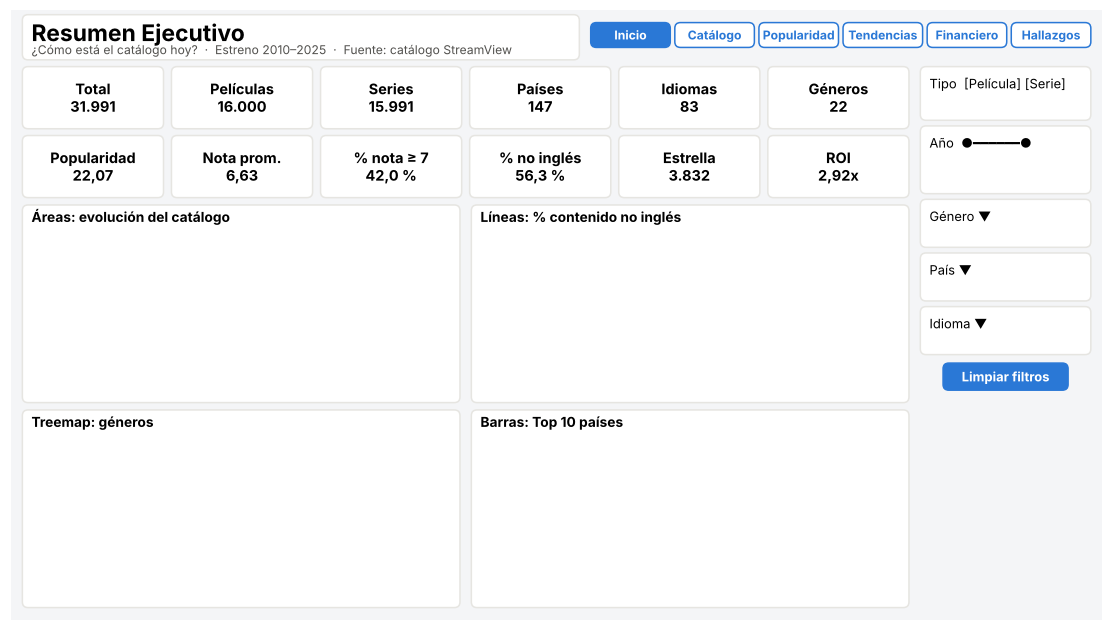

This screenshot's page, from the dashboard's own definition file:
{"tool":"powerbi","page":{"name":"Resumen Ejecutivo","canvas":[1920,1080],"ordinal":0},"visuals":[{"type":"textbox","box":[20,8,980,80],"z":1000},{"type":"actionButton","box":[1020,22,140,44],"z":2000},{"type":"actionButton","box":[1168,22,140,44],"z":3000},{"type":"actionButton","box":[1316,22,140,44],"z":4000},{"type":"actionButton","box":[1464,22,140,44],"z":5000},{"type":"actionButton","box":[1612,22,140,44],"z":6000},{"type":"actionButton","box":[1760,22,140,44],"z":7000},{"type":"slicer","title":"Tipo de contenido","fields":{"Values":["Contenido.tipo"]},"box":[1600,100,300,95],"z":8000},{"type":"slicer","title":"Año de estreno","fields":{"Values":["Calendario.Año"]},"box":[1600,205,300,120],"z":9000},{"type":"slicer","title":"Género","fields":{"Values":["Puente_Genero.genero"]},"box":[1600,335,300,85],"z":10000},{"type":"slicer","title":"País","fields":{"Values":["Puente_Pais.pais"]},"box":[1600,430,300,85],"z":11000},{"type":"slicer","title":"Idioma","fields":{"Values":["dim_Idioma.idioma"]},"box":[1600,525,300,85],"z":12000},{"type":"actionButton","box":[1640,625,220,48],"z":13000},{"type":"cardVisual","fields":{"Data":["_Medidas.KPI Total Contenidos"]},"box":[20,100,248.3,110],"z":14000},{"type":"cardVisual","fields":{"Data":["_Medidas.KPI Total Películas"]},"box":[282.3,100,248.3,110],"z":15000},{"type":"cardVisual","fields":{"Data":["_Medidas.KPI Total Series"]},"box":[544.7,100,248.3,110],"z":16000},{"type":"cardVisual","fields":{"Data":["_Medidas.Países Representados"]},"box":[807,100,248.3,110],"z":17000},{"type":"cardVisual","fields":{"Data":["_Medidas.Idiomas Disponibles"]},"box":[1069.3,100,248.3,110],"z":18000},{"type":"cardVisual","fields":{"Data":["_Medidas.Géneros"]},"box":[1331.7,100,248.3,110],"z":19000},{"type":"cardVisual","fields":{"Data":["_Medidas.Popularidad Mediana"]},"box":[20,222,248.3,110],"z":20000},{"type":"cardVisual","fields":{"Data":["_Medidas.Calificación Promedio"]},"box":[282.3,222,248.3,110],"z":21000},{"type":"cardVisual","fields":{"Data":["_Medidas.% Alta Valoración"]},"box":[544.7,222,248.3,110],"z":22000},{"type":"cardVisual","fields":{"Data":["_Medidas.% Contenido No Inglés"]},"box":[807,222,248.3,110],"z":23000},{"type":"cardVisual","fields":{"Data":["_Medidas.KPI Contenidos Estrella"]},"box":[1069.3,222,248.3,110],"z":24000},{"type":"cardVisual","fields":{"Data":["_Medidas.ROI Agregado"]},"box":[1331.7,222,248.3,110],"z":25000},{"type":"stackedAreaChart","title":"Evolución del catálogo por año","fields":{"Category":["Calendario.Año"],"Series":["Contenido.tipo"],"Y":["_Medidas.Total Contenidos"]},"box":[20,345,770,350],"z":26000},{"type":"lineChart","title":"El catálogo se internacionaliza","fields":{"Category":["Calendario.Año"],"Series":["Contenido.tipo"],"Y":["_Medidas.% Contenido No Inglés"]},"box":[810,345,770,350],"z":27000},{"type":"treemap","title":"¿Qué géneros predominan?","fields":{"Group":["Puente_Genero.genero"],"Values":["_Medidas.Total Contenidos"]},"box":[20,708,770,350],"z":28000},{"type":"clusteredBarChart","title":"Top 10 países productores","fields":{"Category":["Puente_Pais.pais"],"Y":["_Medidas.Total Contenidos"]},"box":[810,708,770,350],"z":29000}]}

Visuals, with their boxes in screenshot pixels (x1, y1, x2, y2), scaled from the page's 1920x1080 canvas onto the 1113x631 screenshot:
textbox: pyautogui.locateOnScreen(12, 5, 580, 51)
actionButton: pyautogui.locateOnScreen(591, 13, 672, 39)
actionButton: pyautogui.locateOnScreen(677, 13, 758, 39)
actionButton: pyautogui.locateOnScreen(763, 13, 844, 39)
actionButton: pyautogui.locateOnScreen(849, 13, 930, 39)
actionButton: pyautogui.locateOnScreen(934, 13, 1016, 39)
actionButton: pyautogui.locateOnScreen(1020, 13, 1101, 39)
"Tipo de contenido" slicer: pyautogui.locateOnScreen(928, 58, 1101, 114)
"Año de estreno" slicer: pyautogui.locateOnScreen(928, 120, 1101, 190)
"Género" slicer: pyautogui.locateOnScreen(928, 196, 1101, 245)
"País" slicer: pyautogui.locateOnScreen(928, 251, 1101, 301)
"Idioma" slicer: pyautogui.locateOnScreen(928, 307, 1101, 356)
actionButton: pyautogui.locateOnScreen(951, 365, 1078, 393)
cardVisual - _Medidas.KPI Total Contenidos: pyautogui.locateOnScreen(12, 58, 156, 123)
cardVisual - _Medidas.KPI Total Películas: pyautogui.locateOnScreen(164, 58, 308, 123)
cardVisual - _Medidas.KPI Total Series: pyautogui.locateOnScreen(316, 58, 460, 123)
cardVisual - _Medidas.Países Representados: pyautogui.locateOnScreen(468, 58, 612, 123)
cardVisual - _Medidas.Idiomas Disponibles: pyautogui.locateOnScreen(620, 58, 764, 123)
cardVisual - _Medidas.Géneros: pyautogui.locateOnScreen(772, 58, 916, 123)
cardVisual - _Medidas.Popularidad Mediana: pyautogui.locateOnScreen(12, 130, 156, 194)
cardVisual - _Medidas.Calificación Promedio: pyautogui.locateOnScreen(164, 130, 308, 194)
cardVisual - _Medidas.% Alta Valoración: pyautogui.locateOnScreen(316, 130, 460, 194)
cardVisual - _Medidas.% Contenido No Inglés: pyautogui.locateOnScreen(468, 130, 612, 194)
cardVisual - _Medidas.KPI Contenidos Estrella: pyautogui.locateOnScreen(620, 130, 764, 194)
cardVisual - _Medidas.ROI Agregado: pyautogui.locateOnScreen(772, 130, 916, 194)
"Evolución del catálogo por año" stackedAreaChart: pyautogui.locateOnScreen(12, 202, 458, 406)
"El catálogo se internacionaliza" lineChart: pyautogui.locateOnScreen(470, 202, 916, 406)
"¿Qué géneros predominan?" treemap: pyautogui.locateOnScreen(12, 414, 458, 618)
"Top 10 países productores" clusteredBarChart: pyautogui.locateOnScreen(470, 414, 916, 618)
